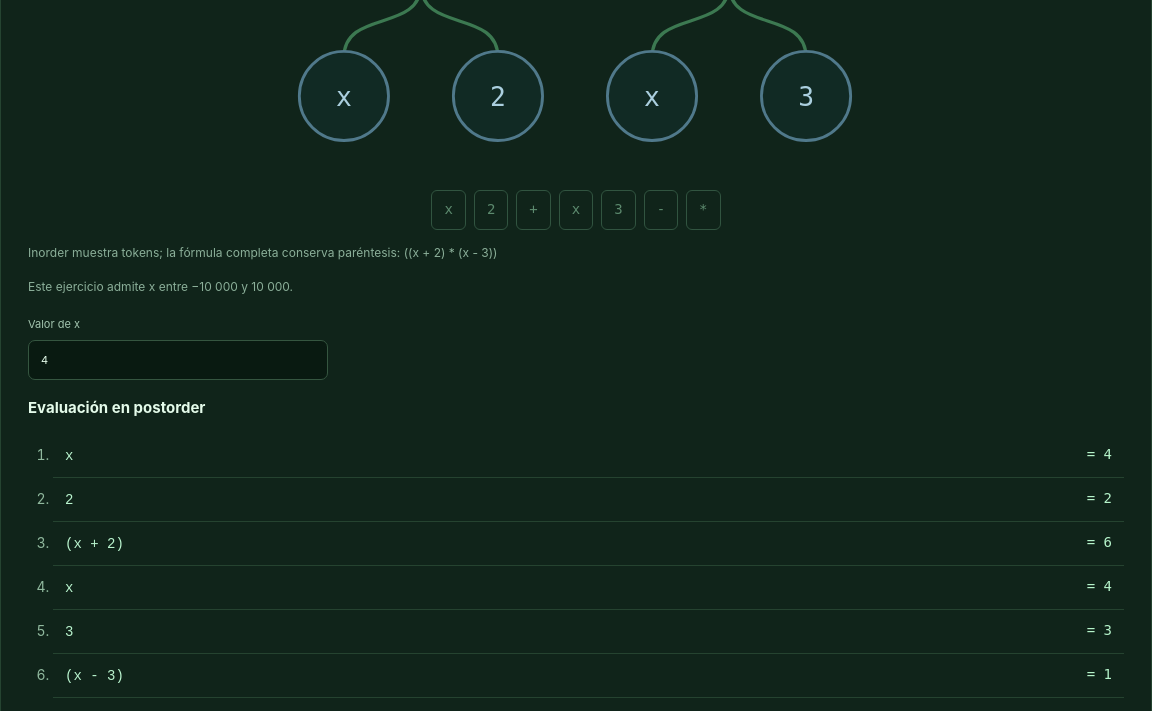
Scenario: limita entradas extremas de la evaluación sin lanzar
(page scrolled)
Replace the text in the number field labelled "Valor de x" with "1e308" at (178, 360), box [28,340,328,380]
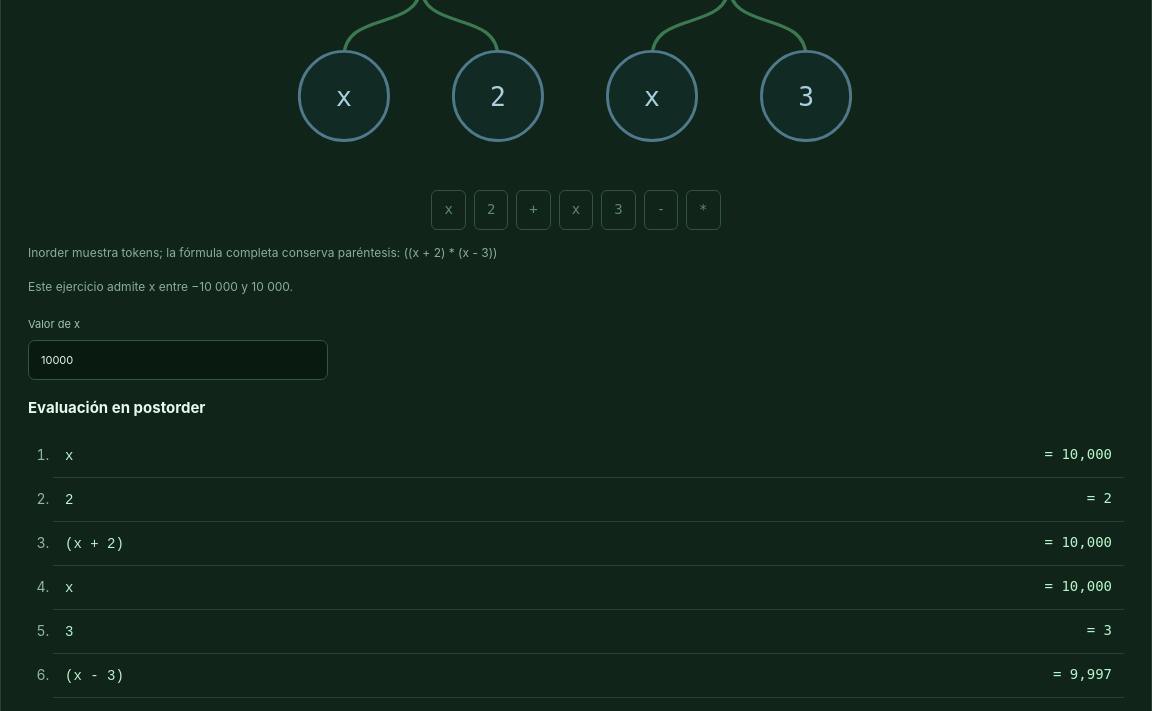
expect the number field labelled "Valor de x" holds "10000": met, box [28,340,328,380]
